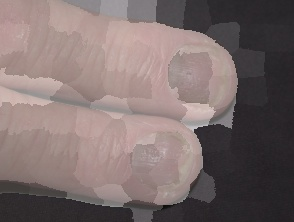Nail_psoriasis: (117, 115, 211, 209), (158, 37, 236, 113)
